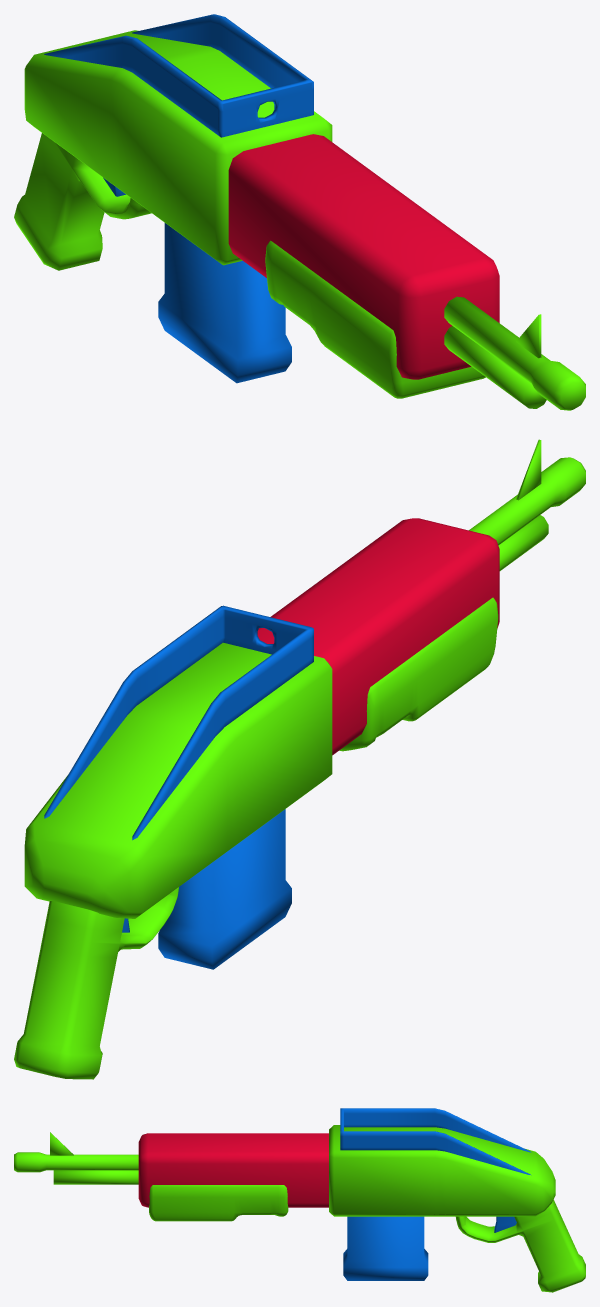
The model's file is shotgun.gltf.
3 renders of one model, top to bottom at view 1: azimuth 30°, elevation 25°; view 2: azimuth 150°, elevation 25°; view 3: azimuth 270°, elevation 25°, orthographic. The views are drawn at different scales.
Parts seen in each view (by area): view 1: Cube, Cube.007, Cube.003; view 2: Cube, Cube.007, Cube.003; view 3: Cube, Cube.007, Cube.003.
Boxes of the visible parts, <box> form: Cube: <box>14,14,585,410</box>; Cube.007: <box>158,223,291,383</box>; Cube.003: <box>265,240,485,398</box>; Cube: <box>14,439,585,1079</box>; Cube.007: <box>158,809,291,969</box>; Cube.003: <box>339,597,498,751</box>; Cube: <box>14,1108,585,1292</box>; Cube.007: <box>343,1216,428,1280</box>; Cube.003: <box>149,1185,288,1221</box>.
Size of the model in its own units: 0.0789 by 0.2021 by 0.6262.
